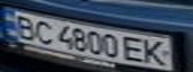0: (84, 29, 106, 56), (103, 31, 121, 60)
4: (51, 24, 75, 48)
8: (69, 26, 87, 52)
B: (9, 12, 42, 39)
C: (30, 18, 57, 44)
E: (121, 35, 148, 63)
K: (139, 38, 172, 68)
